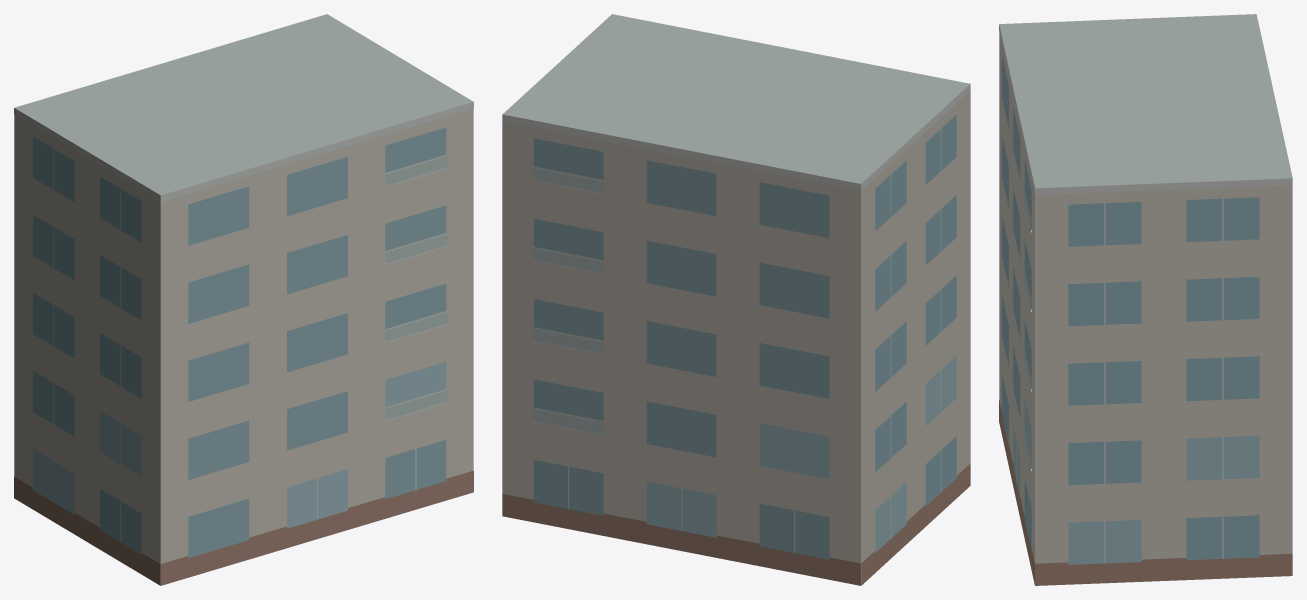
The model's file is survey-upis-32715170.glb.
The picture shows the model from 3 angles, left to right: view 1: azimuth 30°, elevation 25°; view 2: azimuth 150°, elevation 25°; view 3: azimuth 270°, elevation 25°; orthographic projection. The views are drawn at different scales.
Visible parts, largest first — view 1: survey-upis-32715170.tmp; view 2: survey-upis-32715170.tmp; view 3: survey-upis-32715170.tmp.
Part boxes in pixels (box(x1,y1,x2,y2)): survey-upis-32715170.tmp: box(14, 14, 473, 585); survey-upis-32715170.tmp: box(502, 14, 970, 585); survey-upis-32715170.tmp: box(999, 14, 1292, 585).
Size of the model in its own units: 13.31 by 14.15 by 9.48.
